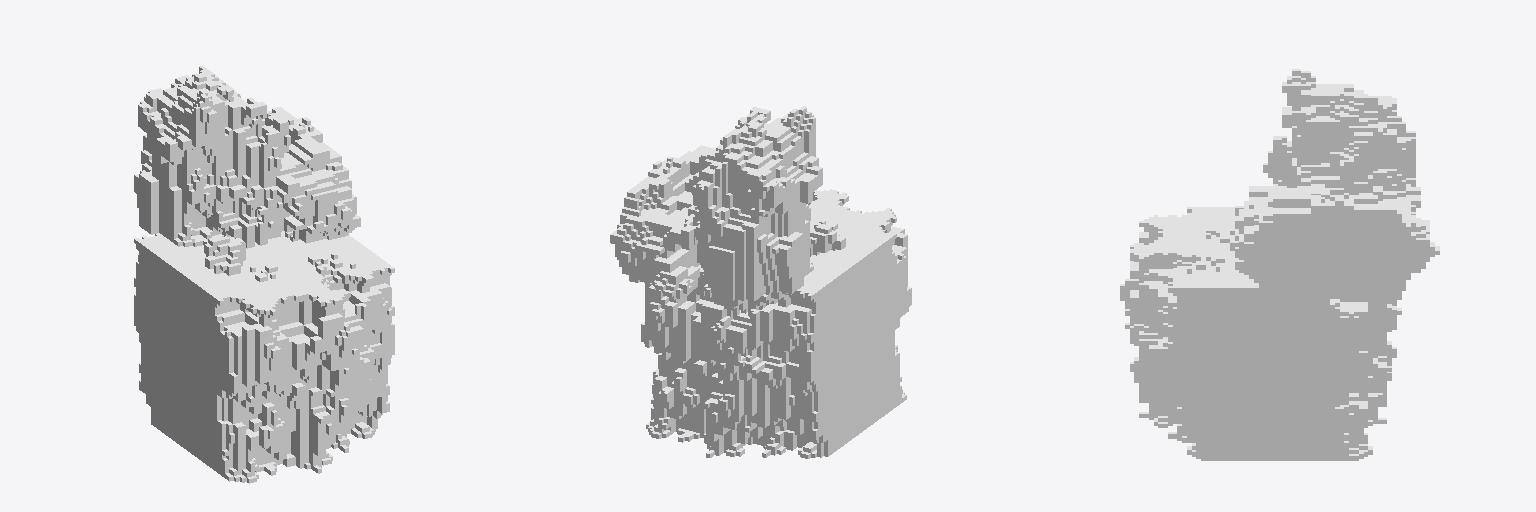
File: MountainRocks-1.obj
3 views of the same model, side by side, from view 1: azimuth 30°, elevation 25°; view 2: azimuth 150°, elevation 25°; view 3: azimuth 270°, elevation 25° (orthographic).
Visible parts, largest first — view 1: object 1; view 2: object 1; view 3: object 1.
Part boxes in pixels (bbox=[...]): object 1: bbox=[134, 66, 394, 483]; object 1: bbox=[610, 106, 911, 458]; object 1: bbox=[1120, 69, 1439, 460].
Bounding box in the file's own units: 4 × 7.6 × 6.7.